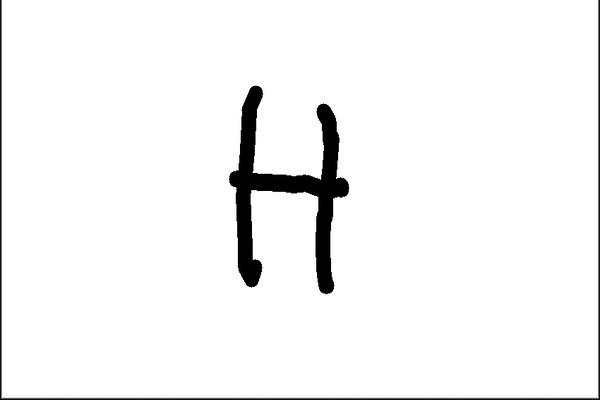H: (221, 77, 356, 296)
